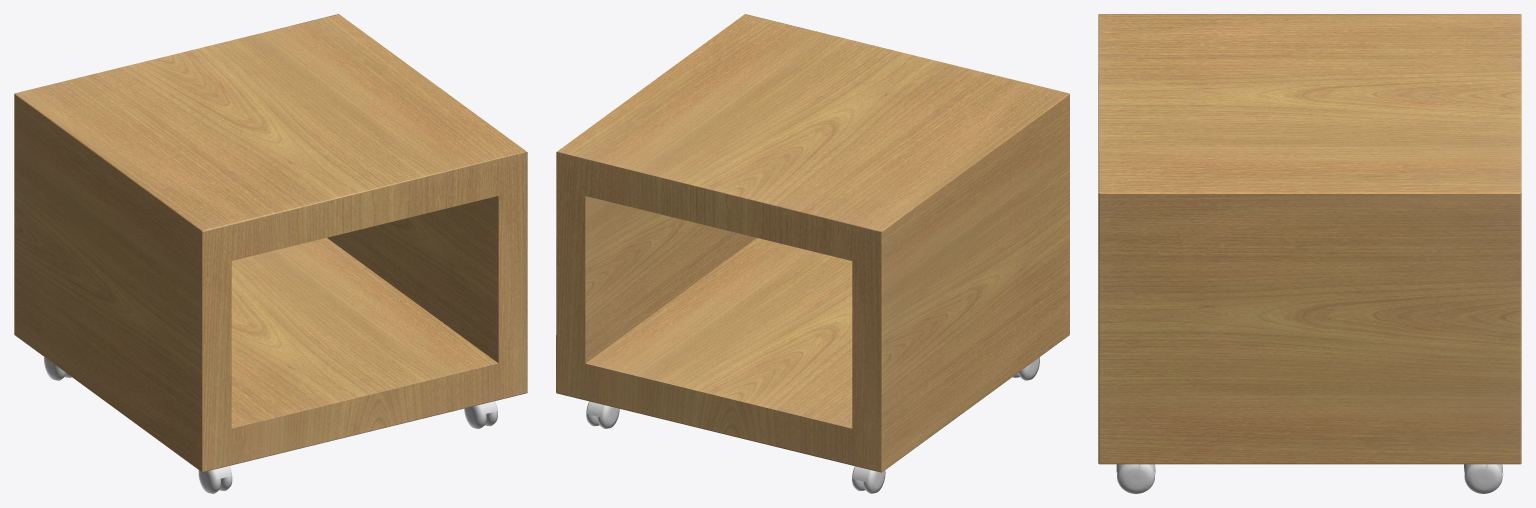
The model's file is IKEA-LACK_side_table_wood-3D.obj.
The picture shows the model from 3 angles, left to right: view 1: azimuth 30°, elevation 25°; view 2: azimuth 150°, elevation 25°; view 3: azimuth 270°, elevation 25°; orthographic projection. The views are drawn at different scales.
Visible parts, largest first — view 1: Rectangle001, Plane01, Plane002; view 2: Rectangle001, Plane004, Plane003; view 3: Rectangle001, Plane002, Plane003.
Boxes of the visible parts, left/top/right/bottom form: Rectangle001: left=14, top=14, right=527, bottom=472; Plane01: left=198, top=466, right=232, bottom=493; Plane002: left=464, top=401, right=497, bottom=428; Rectangle001: left=556, top=14, right=1069, bottom=472; Plane004: left=852, top=466, right=885, bottom=493; Plane003: left=586, top=401, right=619, bottom=428; Rectangle001: left=1098, top=14, right=1521, bottom=464; Plane002: left=1116, top=464, right=1155, bottom=493; Plane003: left=1464, top=464, right=1503, bottom=493.
Size of the model in its own units: 550 by 451 by 550.
